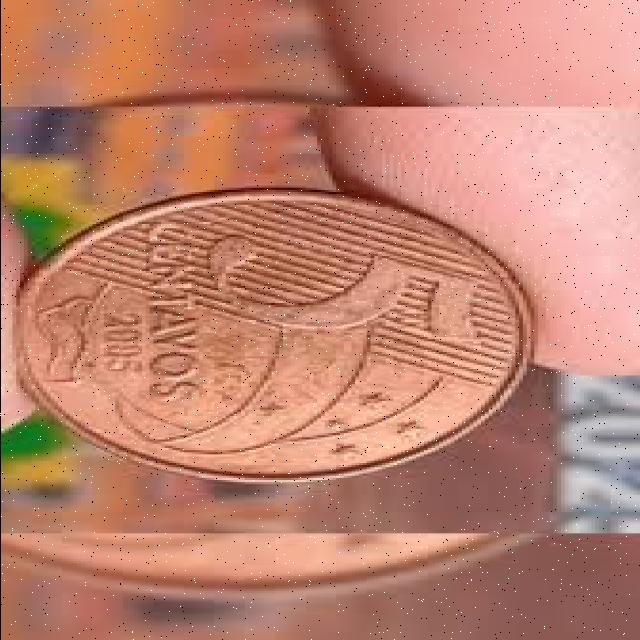5 cent: (12, 190, 536, 481)
